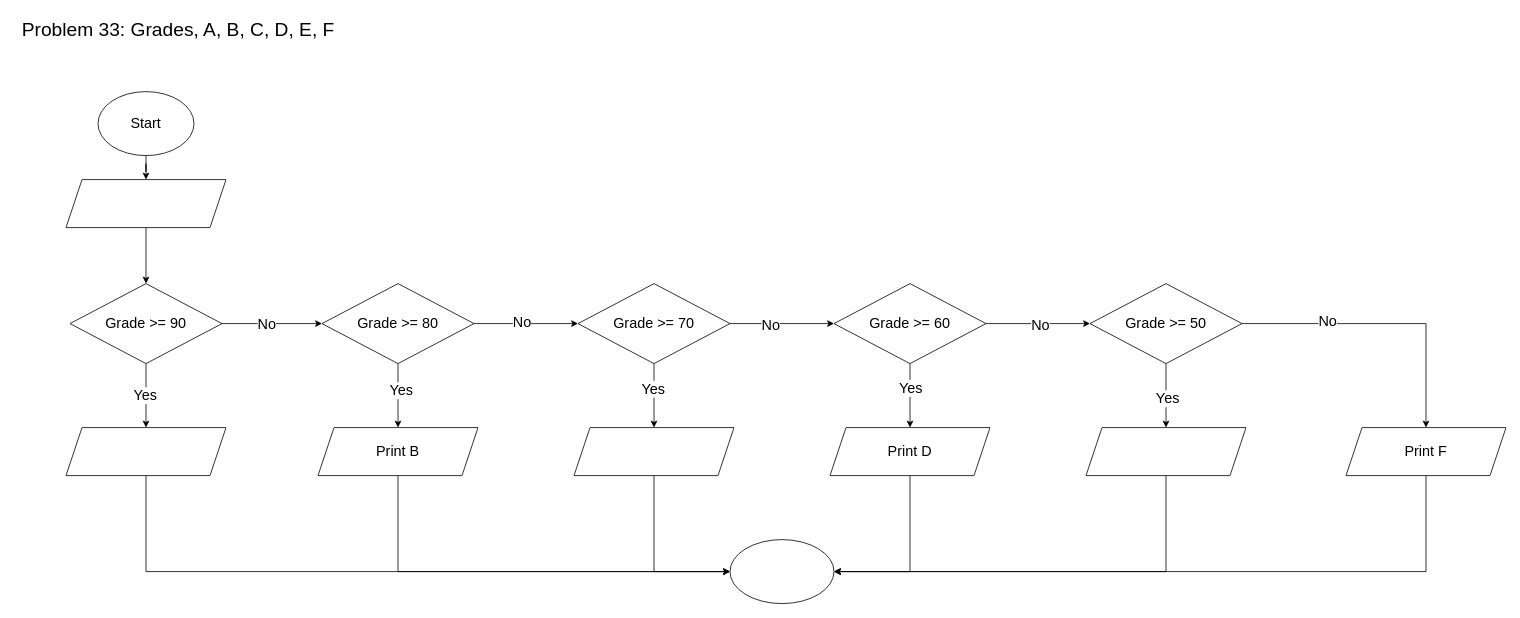
The diagram is 1520 pixels wide and 618 high, and some of its shapes have lost their labels. Here are the shapes that lost their labels. From the top down, the centre of each, then its label:
At point 145,203: "Read Grade".
At point 145,451: "Print A".
At point 653,451: "Print C".
At point 1165,451: "Print E".
At point 781,571: "End".
